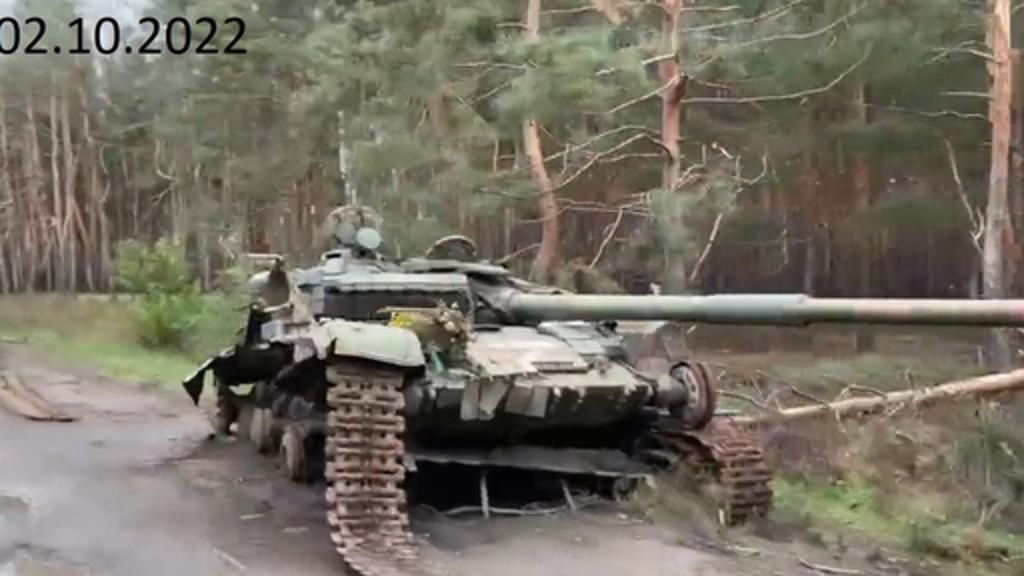TANK: (186, 212, 1014, 520)
